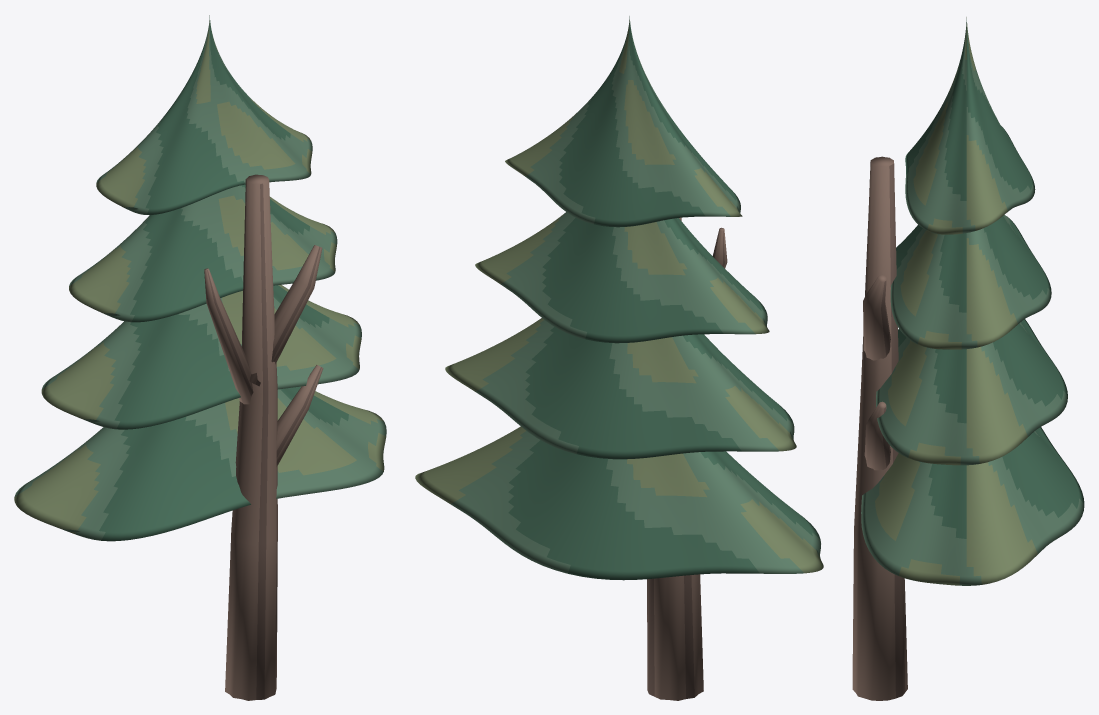
The model's file is tree03.glb.
3 views of the same model, side by side, from view 1: azimuth 30°, elevation 25°; view 2: azimuth 150°, elevation 25°; view 3: azimuth 270°, elevation 25° (orthographic). The views are drawn at different scales.
Visible parts, largest first — view 1: Pine curved tier 0, Pine curved tier 1, Pine tapered trunk, Pine curved tier 2, Pine curved tier 3, Pine exposed fork, Pine exposed fork.002, Pine exposed fork.001; view 2: Pine curved tier 0, Pine curved tier 1, Pine curved tier 2, Pine curved tier 3, Pine tapered trunk; view 3: Pine curved tier 0, Pine curved tier 1, Pine curved tier 2, Pine tapered trunk, Pine curved tier 3, Pine exposed fork, Pine exposed fork.001.
Part boxes in pixels (x1,y1,x2,y2): Pine curved tier 0: [14, 386, 386, 541]; Pine curved tier 1: [41, 285, 361, 429]; Pine tapered trunk: [225, 174, 277, 700]; Pine curved tier 2: [69, 184, 337, 322]; Pine curved tier 3: [96, 15, 312, 214]; Pine exposed fork: [249, 245, 322, 386]; Pine exposed fork.002: [204, 268, 253, 404]; Pine exposed fork.001: [276, 365, 323, 466]; Pine curved tier 0: [415, 426, 823, 580]; Pine curved tier 1: [445, 318, 796, 459]; Pine curved tier 2: [475, 212, 769, 343]; Pine curved tier 3: [505, 16, 742, 227]; Pine tapered trunk: [647, 217, 703, 700]; Pine curved tier 0: [861, 427, 1084, 585]; Pine curved tier 1: [876, 319, 1067, 465]; Pine curved tier 2: [890, 215, 1051, 349]; Pine tapered trunk: [852, 156, 907, 700]; Pine curved tier 3: [905, 17, 1035, 234]; Pine exposed fork: [863, 274, 890, 360]; Pine exposed fork.001: [864, 401, 890, 470].
Bounding box in the file's own units: 0.59 × 1 × 0.3112.
